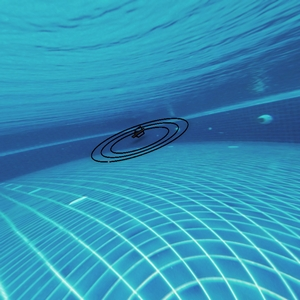circle: (83, 87, 200, 192)
submarine: (134, 120, 145, 137)
